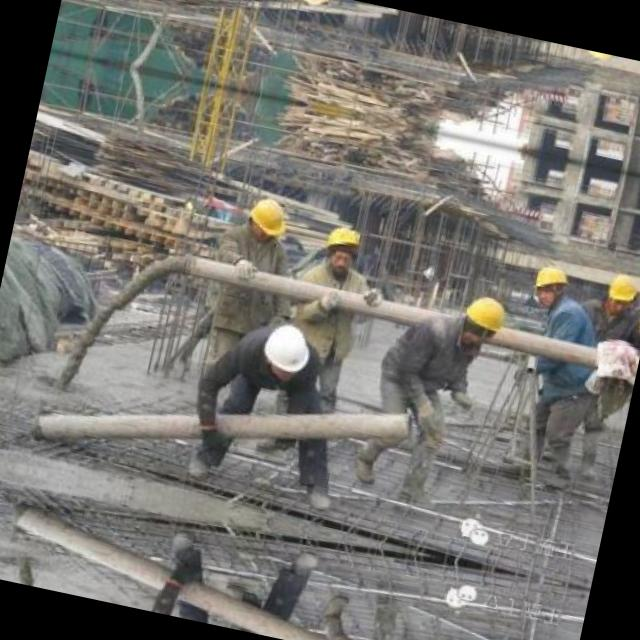helmet: (454, 285, 514, 352), (255, 316, 314, 378), (316, 216, 365, 275), (240, 190, 289, 243), (526, 256, 574, 308), (599, 265, 640, 316), (578, 48, 618, 65), (289, 0, 333, 10)
